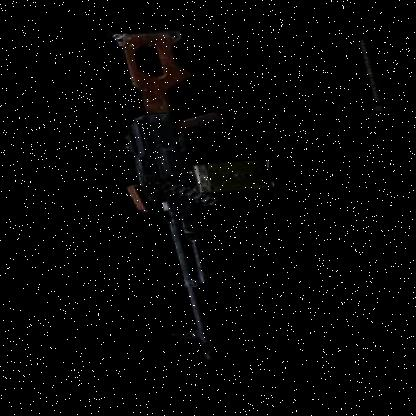rifle: (73, 24, 327, 364)
